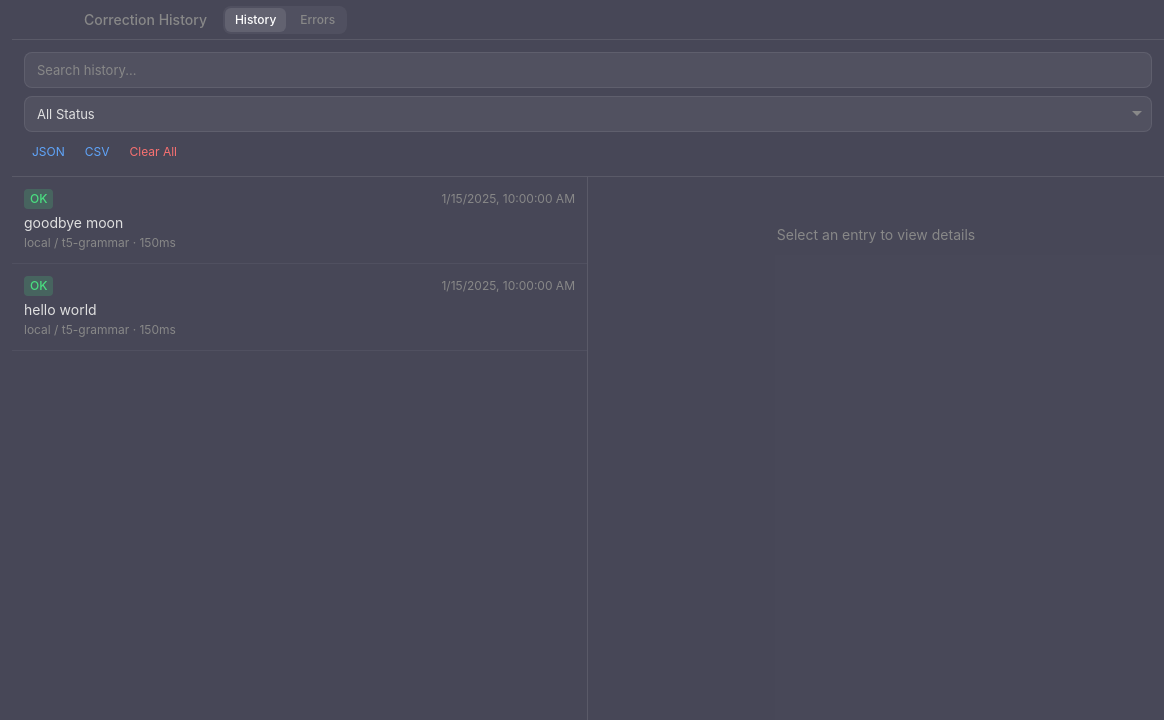
Test: History › search filters by originalText and generatedText
Expected: the text "hello world" is shown, left=24, top=301, right=97, bottom=318
Type "goodbye" into the field with placeholder "Search history..." at point(588, 70), box left=24, top=52, right=1152, bottom=88
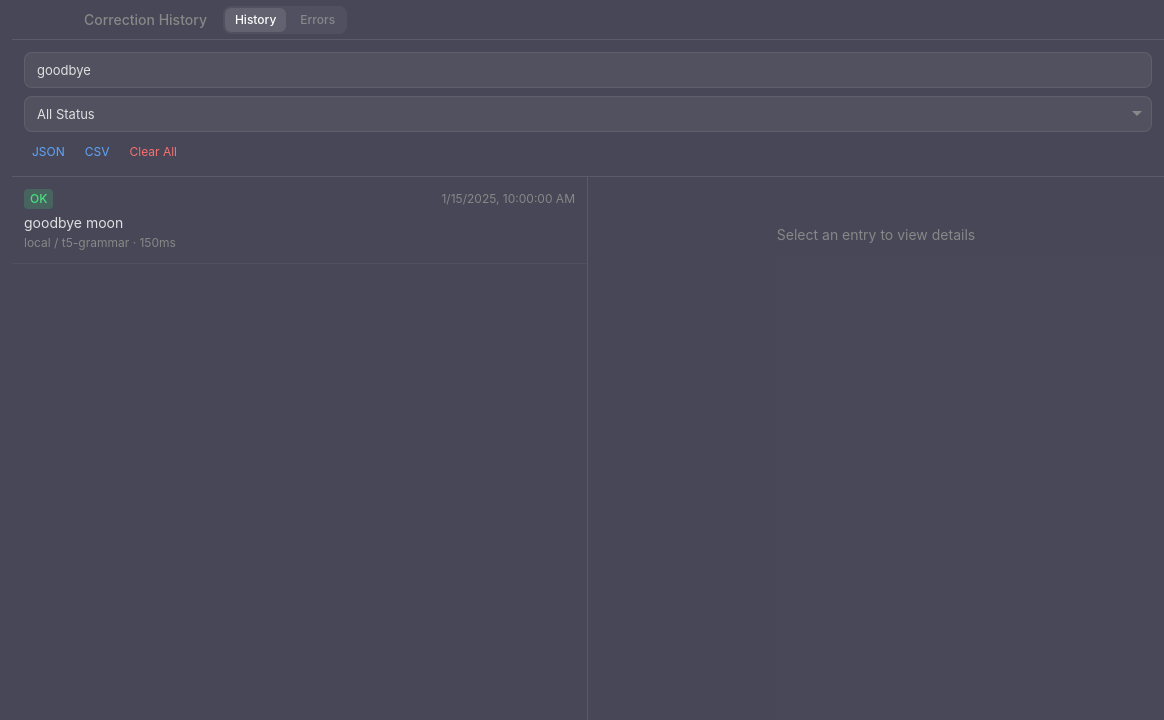
Expected: the text "goodbye moon" is shown, left=24, top=214, right=123, bottom=231
Now the button "hello world" is gone
